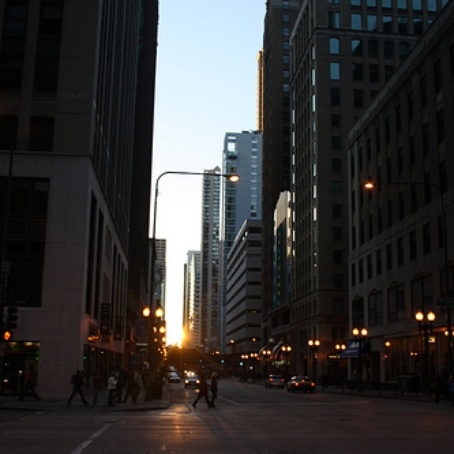building: (1, 1, 154, 398), (342, 15, 453, 390), (291, 1, 355, 378), (255, 1, 304, 351), (218, 129, 263, 355), (219, 228, 264, 356), (191, 163, 221, 348)
sky: (158, 1, 253, 220)
street: (1, 399, 454, 454)
